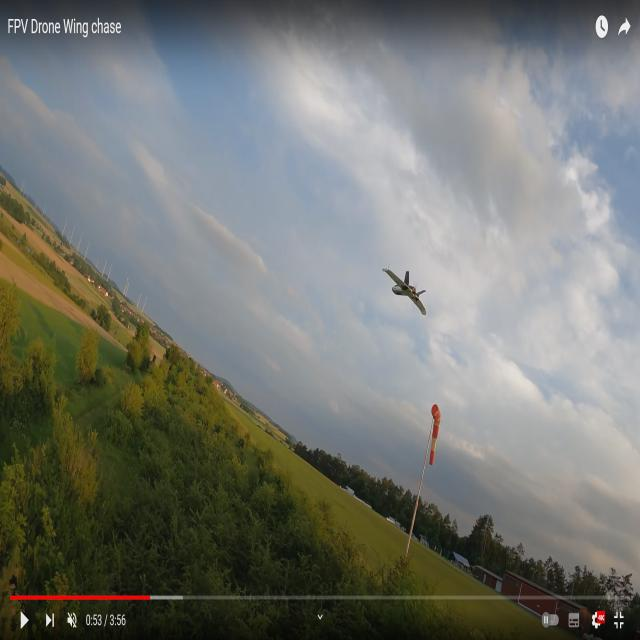iha: (383, 268, 428, 316)
